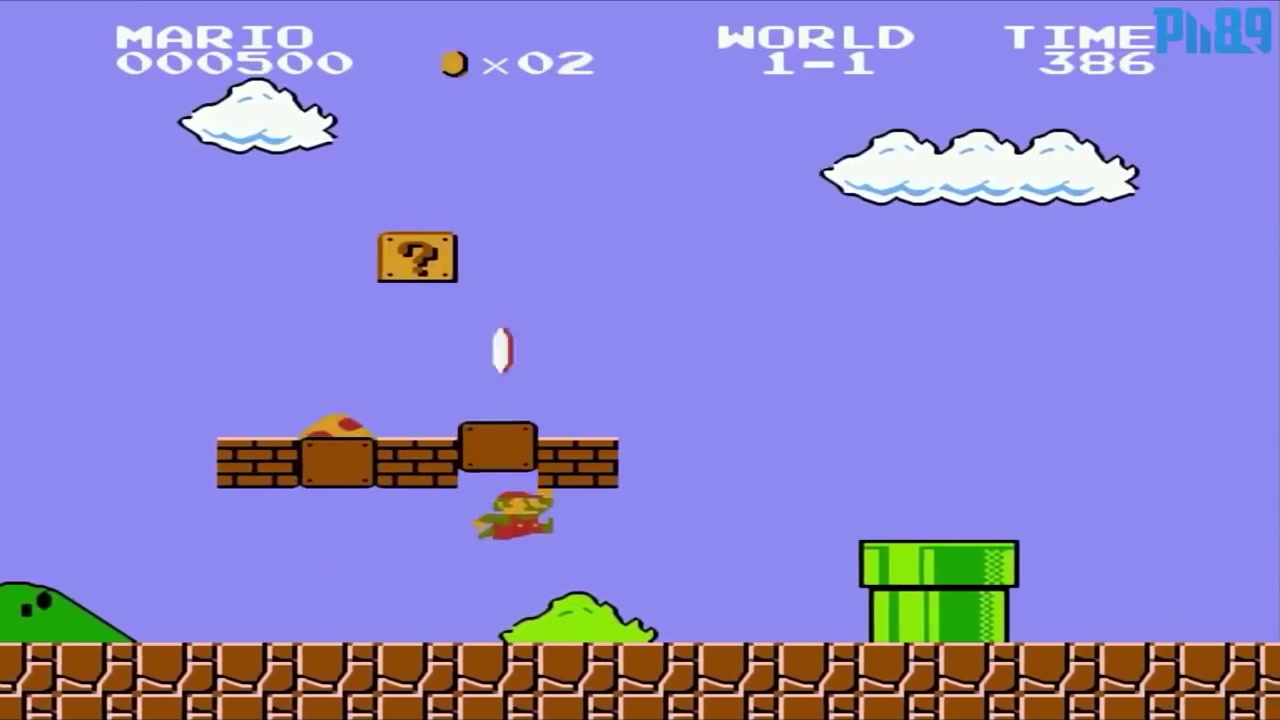mario: (467, 484, 558, 551)
